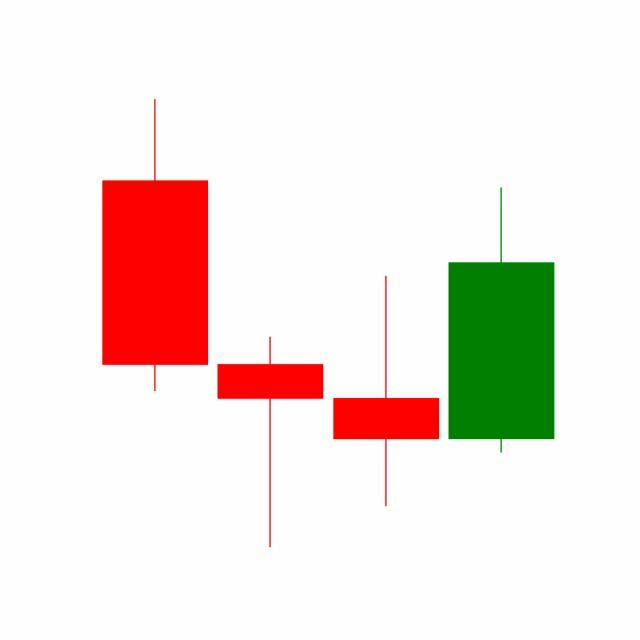Spinning Top: (329, 274, 445, 511)
